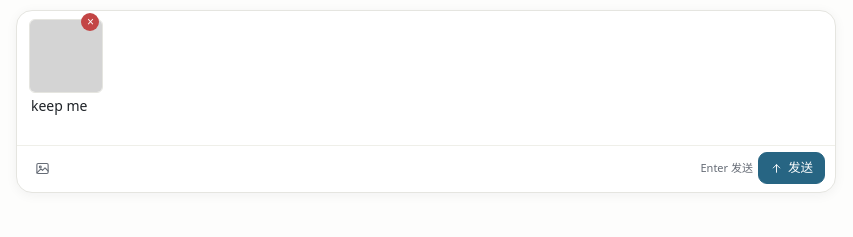
Test: attachments › preserves text and images after failure
The width and height of the screenshot is (853, 237).
Earlier steps of the test are not shown.
Click the button "发送" at {"x": 792, "y": 168}, box [758,152,825,184]
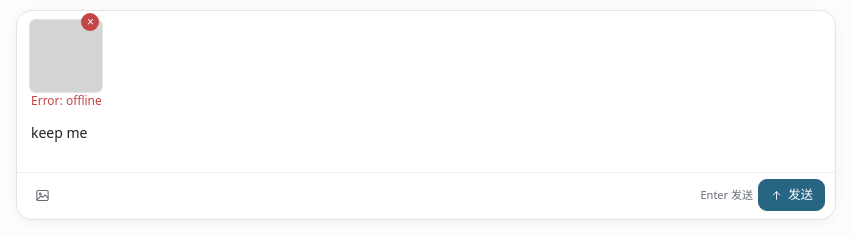
Check: the text box holds "keep me", box [31,120,821,168]
Check: the message "Error: offline" is shown, box [31,92,102,109]
